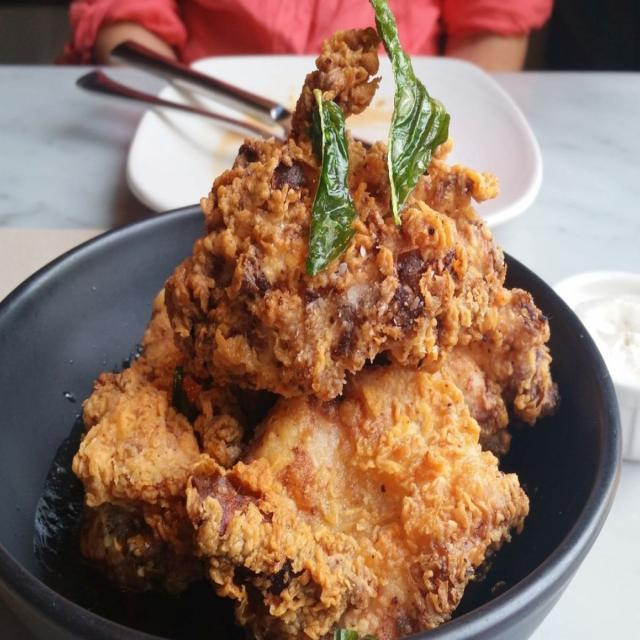Frango: (76, 7, 558, 640)
